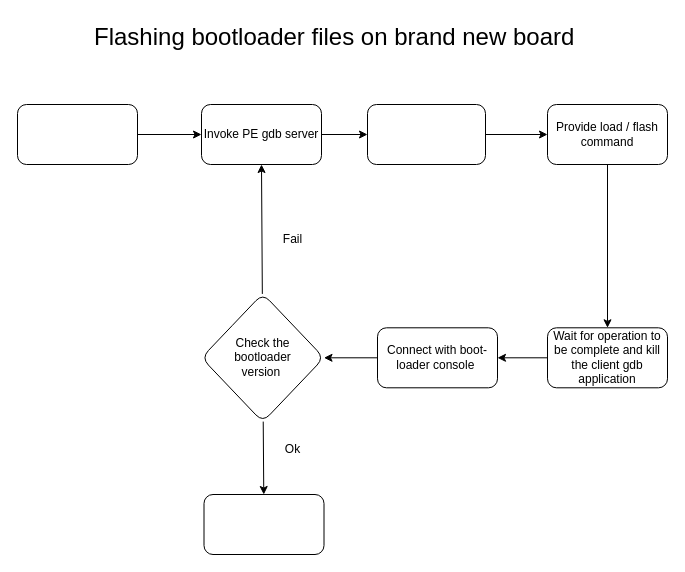
Image size: 685x572. Some labels were removed from this diagram. Each missing label, with the centre of its shape:
Gather image files: the point at 77,134
Invoke gdb client: the point at 426,134
Show the version: the point at 263,524
